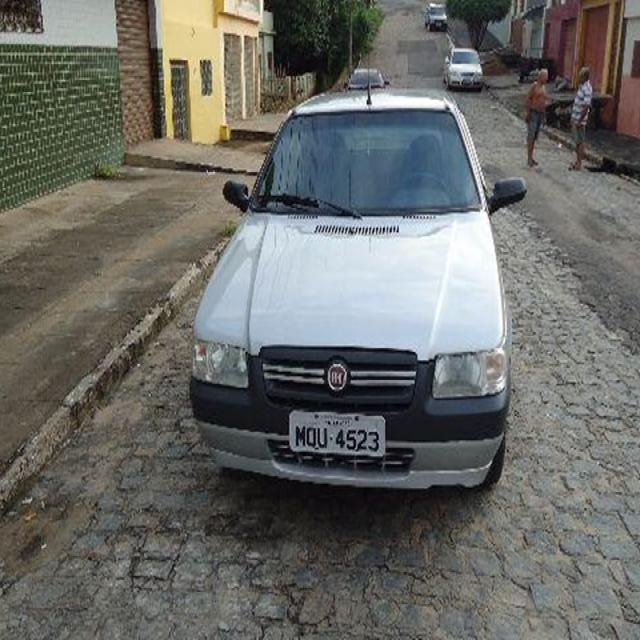Placa: (288, 409, 388, 459)
